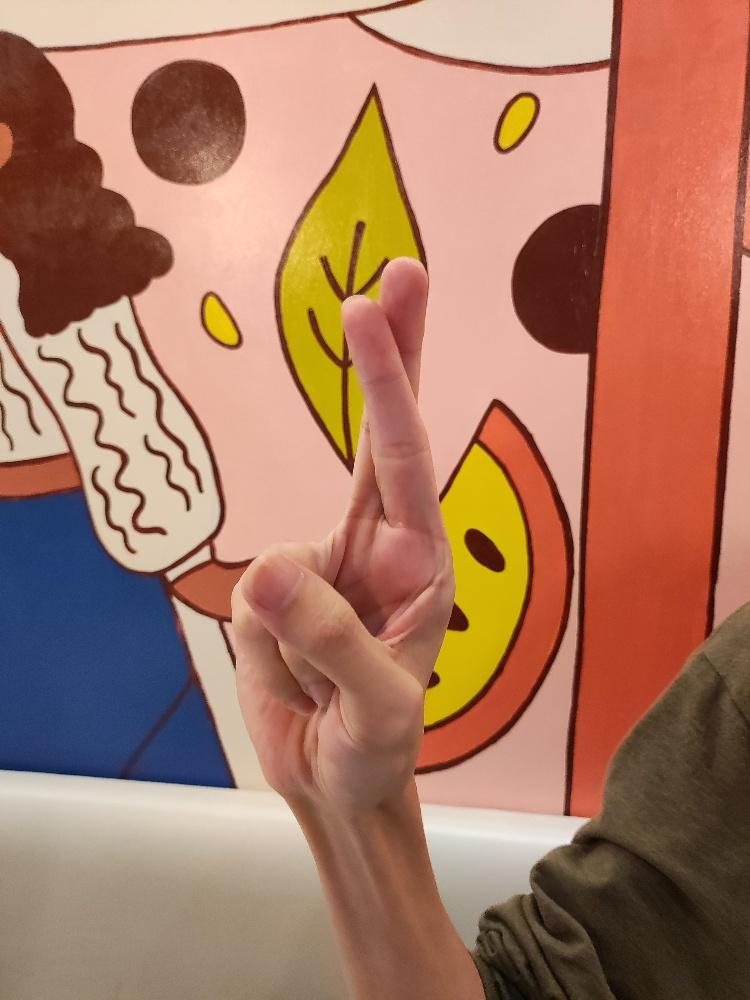r: (226, 251, 458, 811)
